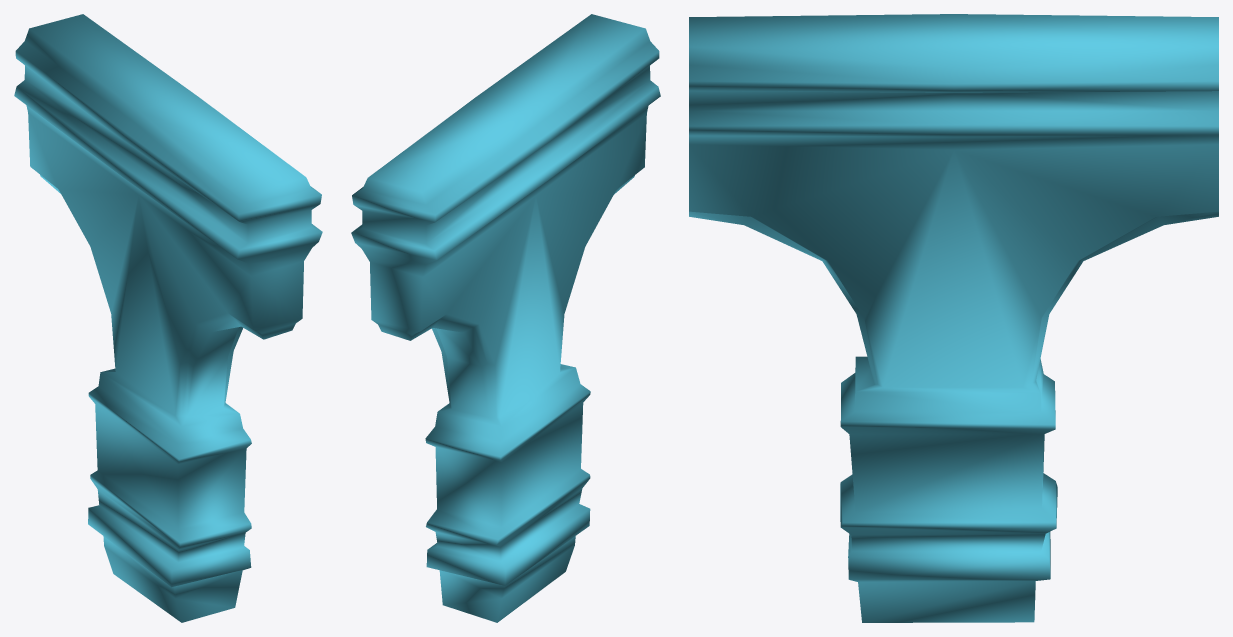
The model's file is arc_04.FBX.
3 renders of one model, left to right at view 1: azimuth 30°, elevation 25°; view 2: azimuth 150°, elevation 25°; view 3: azimuth 270°, elevation 25°, orthographic. The views are drawn at different scales.
Visible parts, largest first — view 1: arc_04; view 2: arc_04; view 3: arc_04.
Part boxes in pixels (<box>): arc_04: <box>14,14,322,622</box>; arc_04: <box>351,14,660,622</box>; arc_04: <box>689,14,1218,622</box>.
Size of the model in its own units: 8.22 by 42.9 by 35.44.
